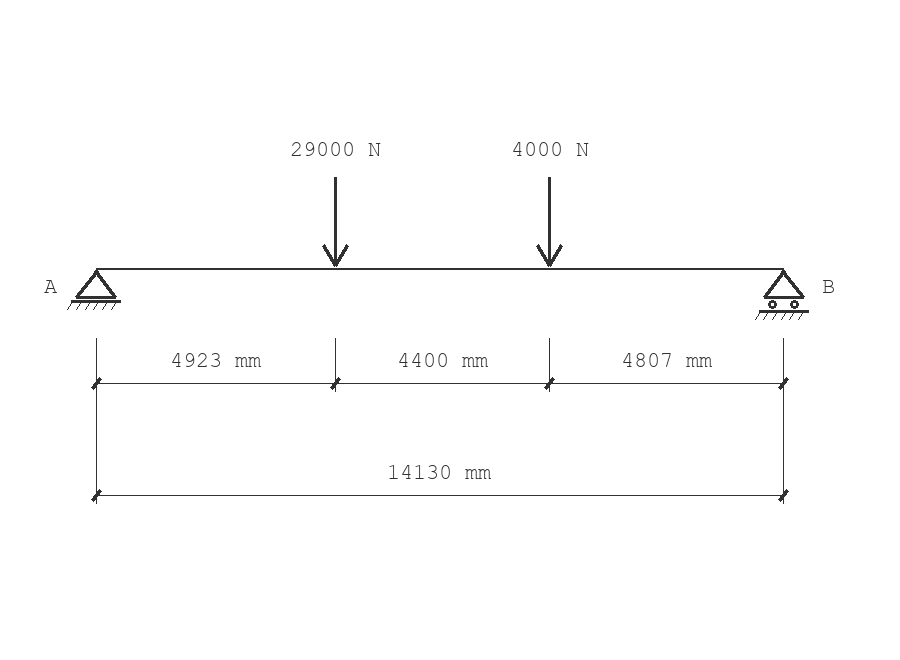pin_support: (67, 270, 121, 310)
point_load: (322, 177, 349, 267), (536, 177, 563, 267)
roller_support: (755, 270, 809, 320)
